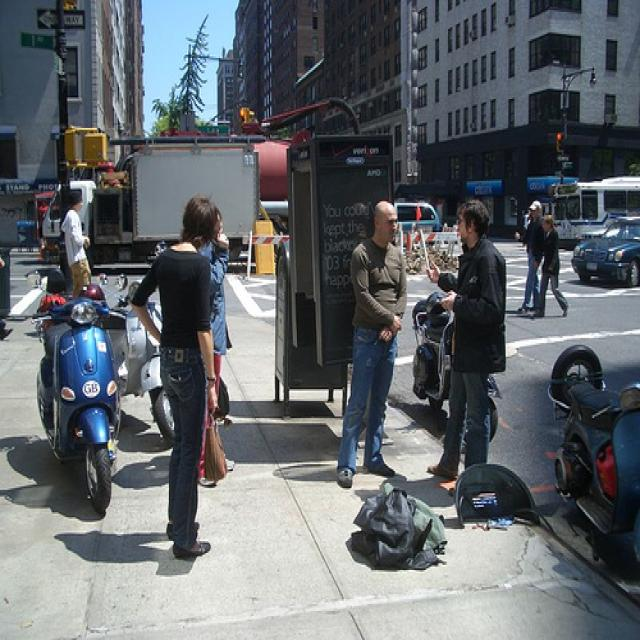motor: (28, 299, 129, 516), (413, 291, 503, 444), (120, 303, 179, 441)
